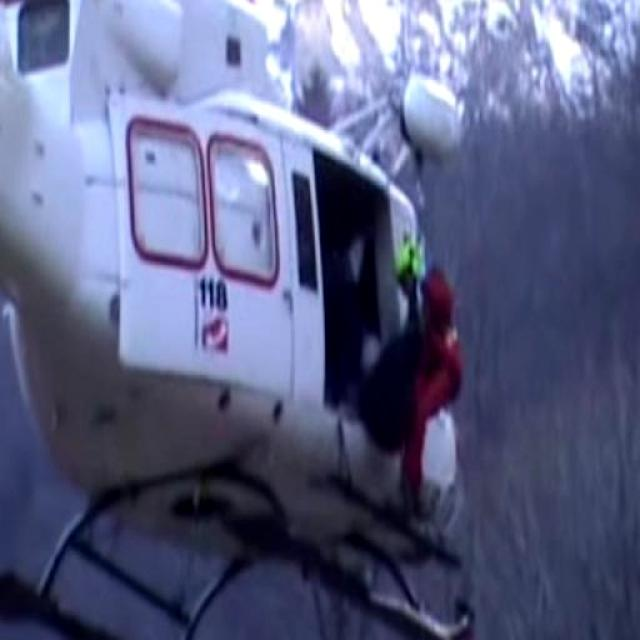drone: (0, 0, 508, 640)
